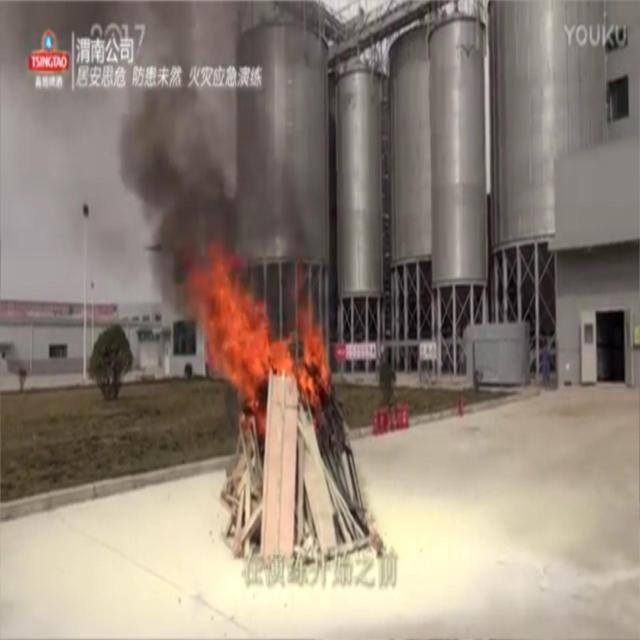Fire: (182, 238, 334, 433)
Smoke: (17, 1, 314, 312)
